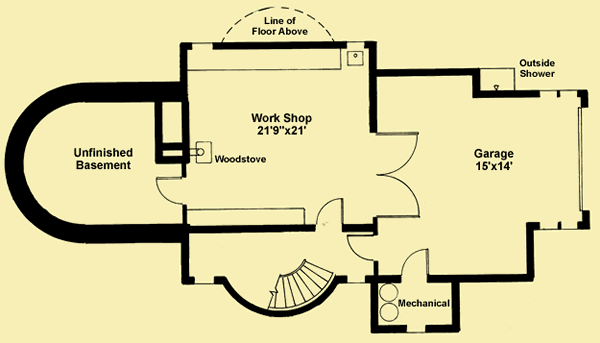door: (373, 130, 422, 217), (343, 230, 374, 263), (153, 175, 186, 205), (314, 195, 346, 225), (399, 247, 432, 276)
stairs: (266, 255, 334, 310)
